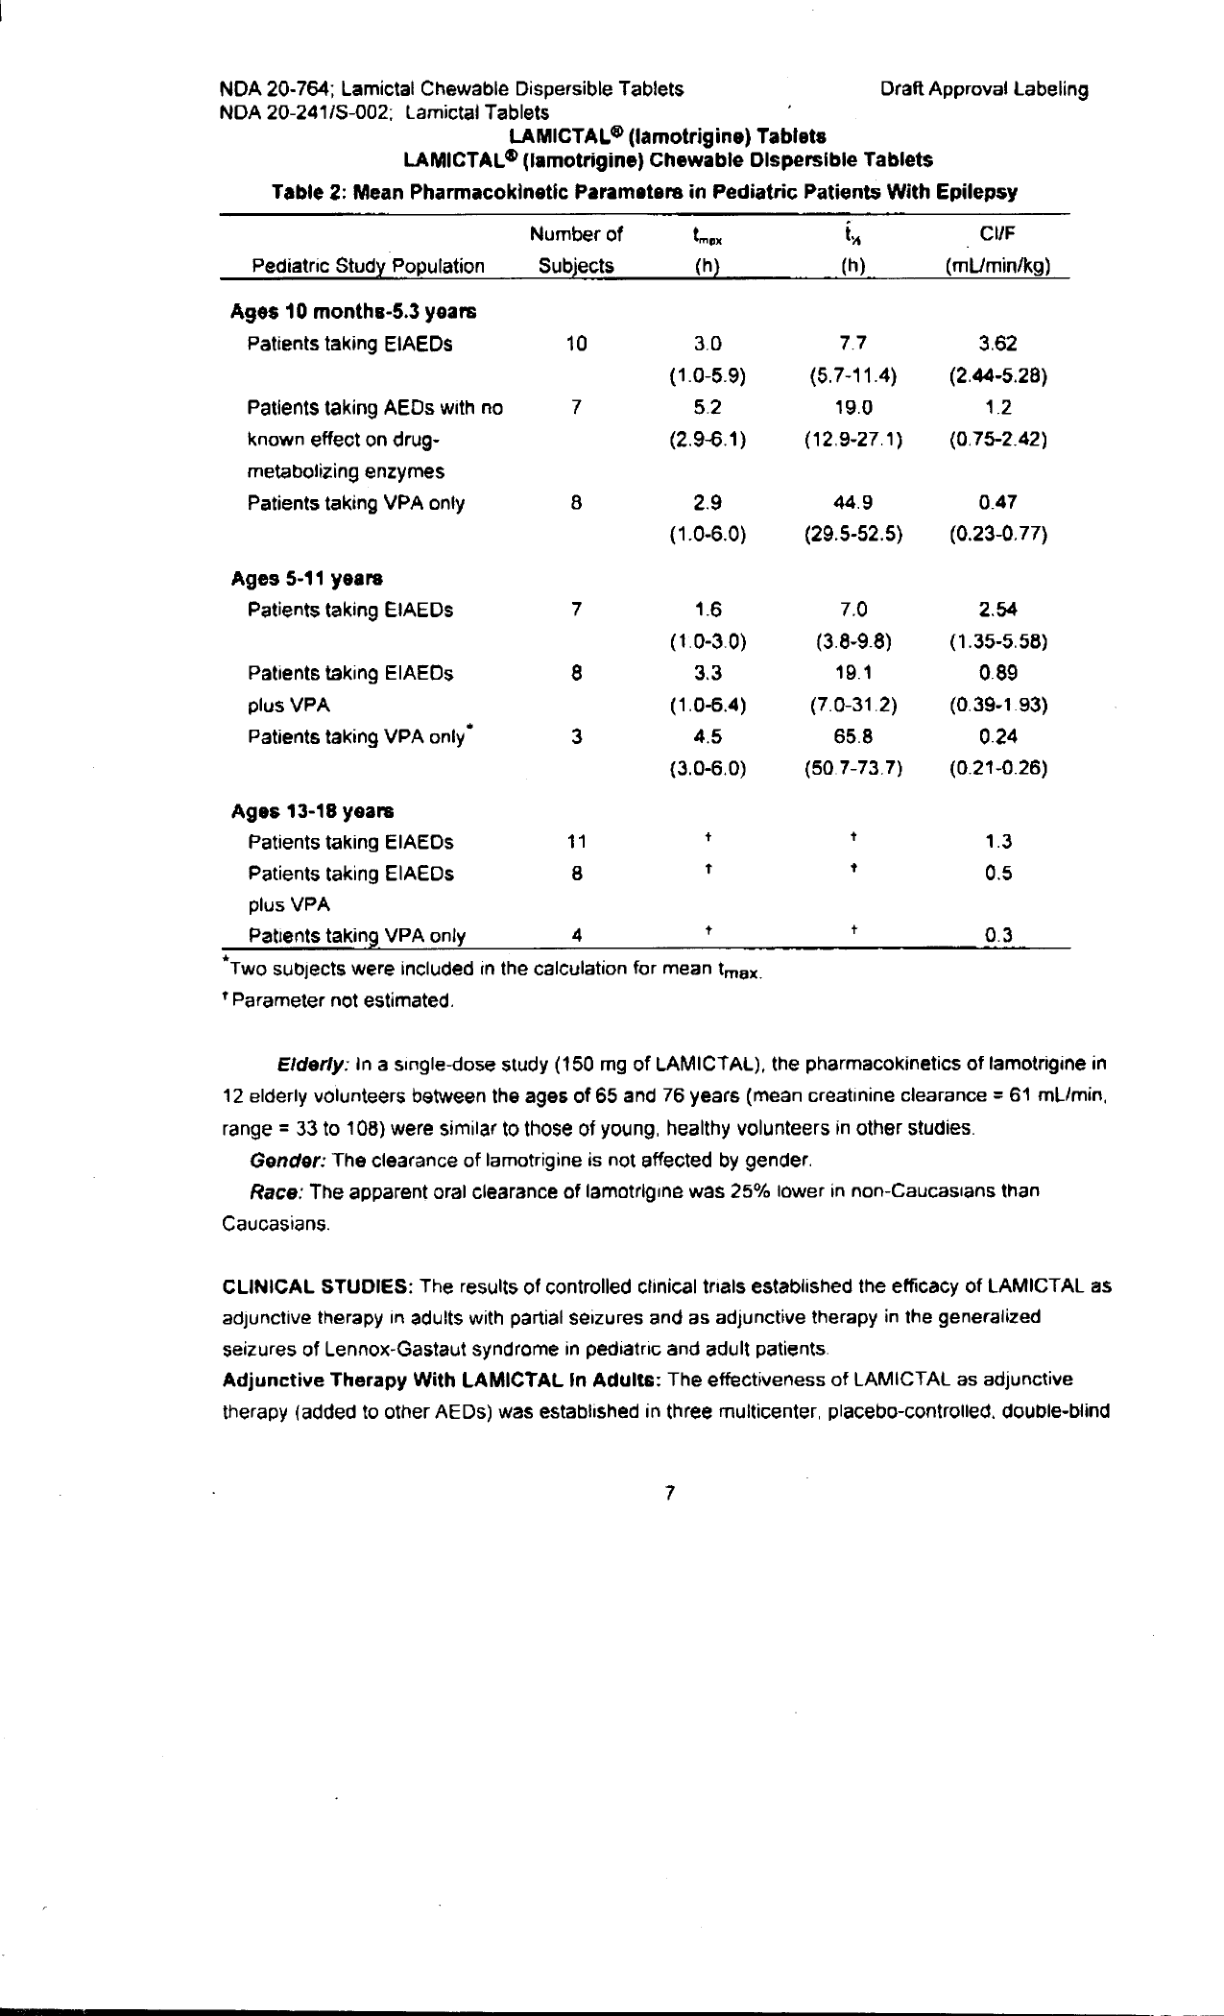partial_lined: (217, 207, 1068, 953)
